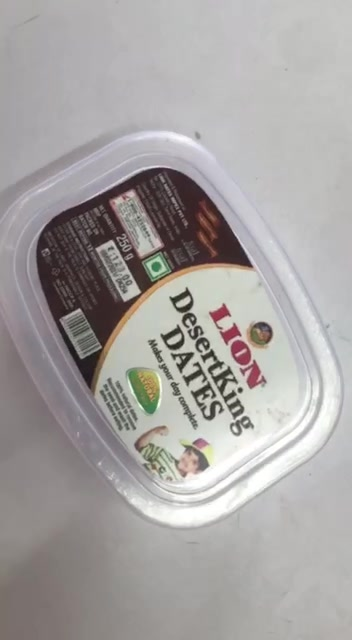Lion dates: (3, 129, 345, 530)
